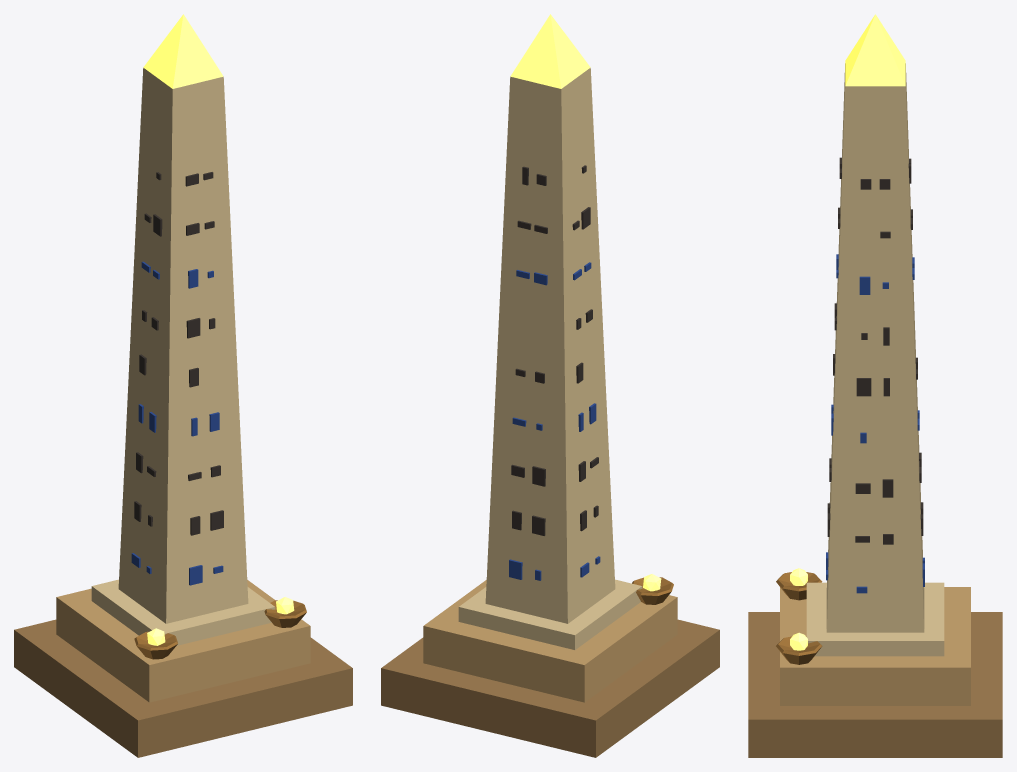
The model's file is desert_obelisk.glb.
The picture shows the model from 3 angles, left to right: view 1: azimuth 30°, elevation 25°; view 2: azimuth 150°, elevation 25°; view 3: azimuth 270°, elevation 25°; orthographic projection. The views are drawn at different scales.
Parts seen in each view (by area): view 1: desert_obelisk; view 2: desert_obelisk; view 3: desert_obelisk.
Part boxes in pixels (box(x1,y1,x2,y2)): desert_obelisk: box(14, 14, 352, 757); desert_obelisk: box(381, 14, 719, 757); desert_obelisk: box(748, 14, 1002, 757).
Bounding box in the file's own units: 2.4 × 7.18 × 2.4.
